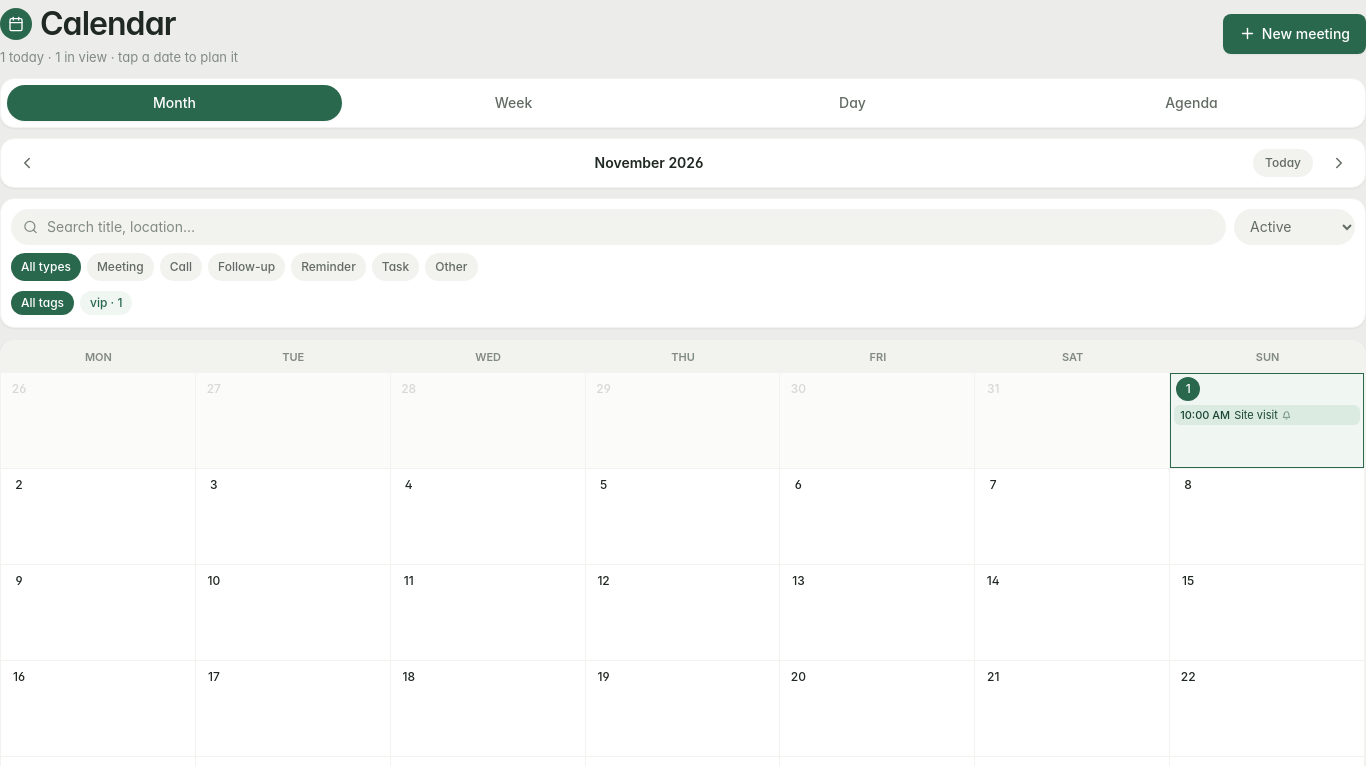
CalendarPage › opens a meeting for editing when its chip is clicked
Click the text "Site visit": (1256, 415) 1234,407 -> 1278,423
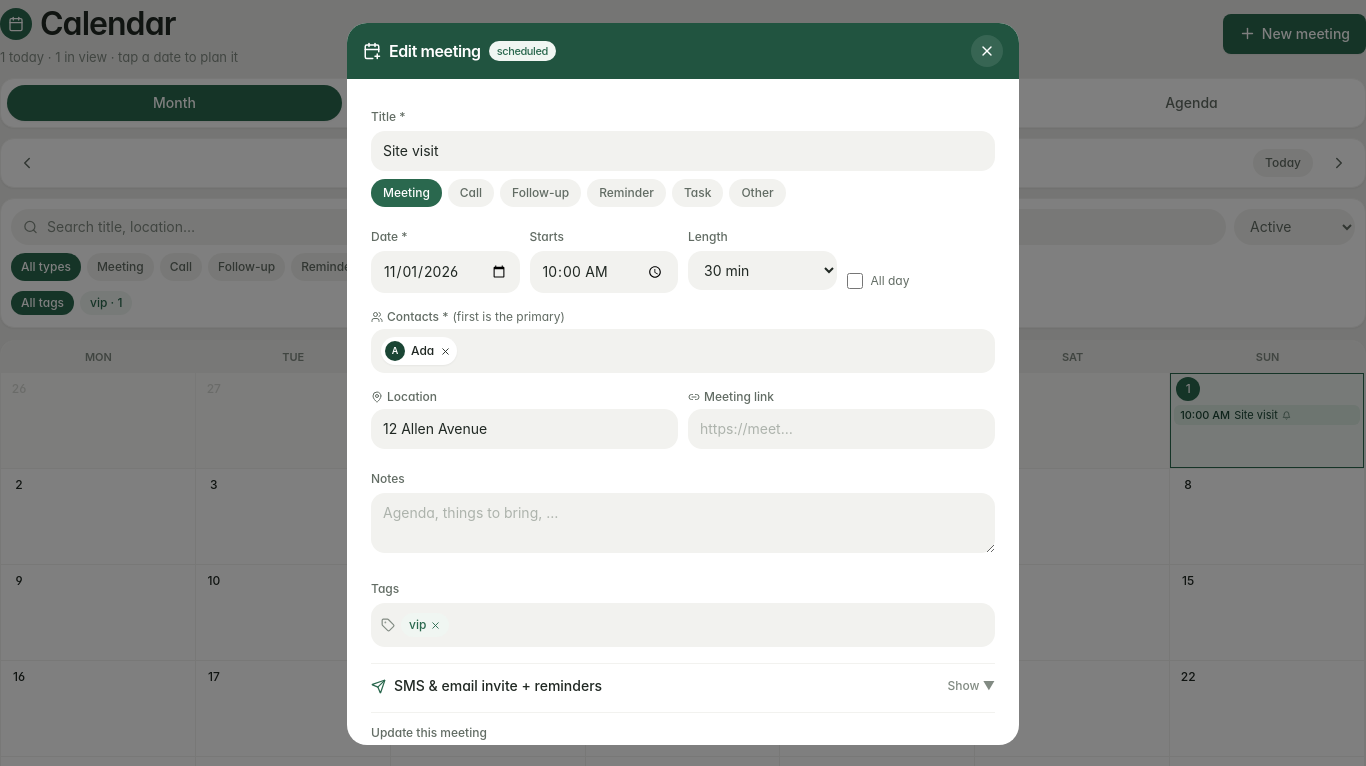
Check: the heading "Edit meeting scheduled" is shown, box 363,39 -> 556,63
Check: the field showing "Site visit" below "Title *" is shown, box 371,131 -> 995,171
